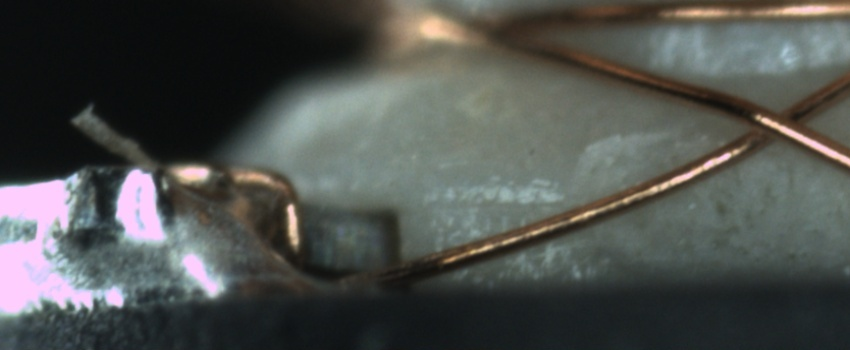CL: (722, 89, 830, 158)
DL: (428, 175, 579, 232)
TE: (158, 155, 308, 267)
